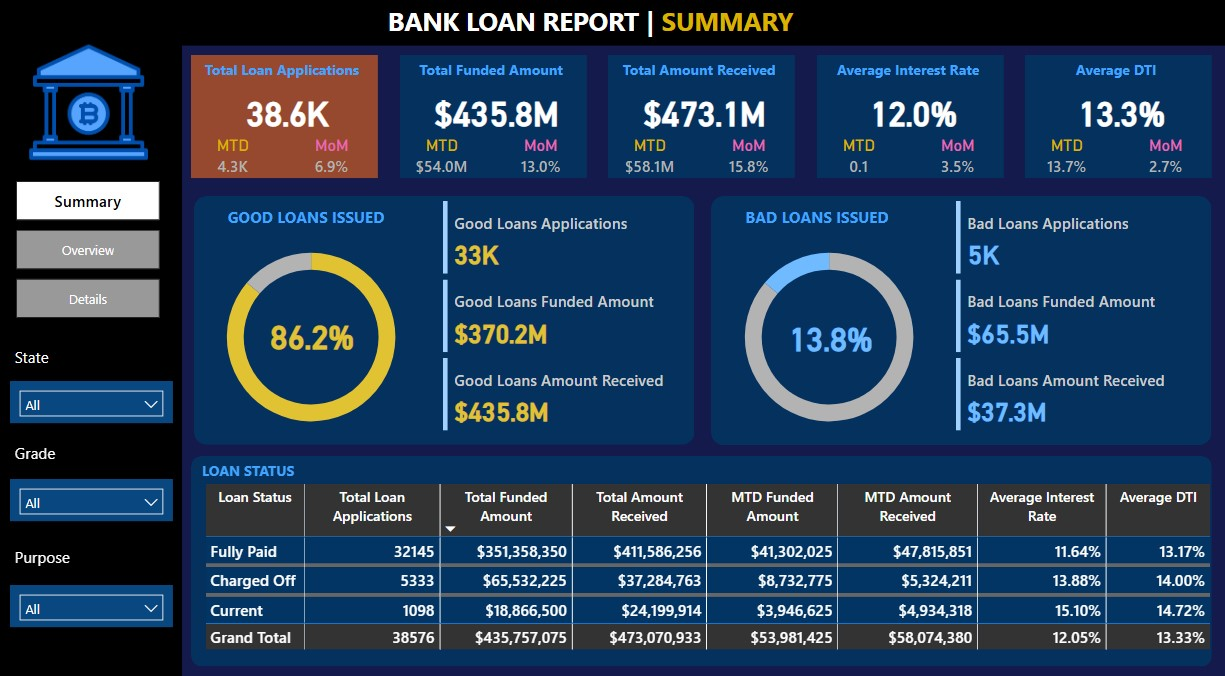

What the dashboard file says about the page in this screenshot:
{"tool":"powerbi","page":{"name":"Summary","canvas":[1280,720],"ordinal":0},"visuals":[{"type":"shape","box":[0,0,1280,55],"z":0},{"type":"shape","box":[200.5,64.3,195.3,128.5],"z":0,"group":"g1"},{"type":"shape","box":[418,64.3,195.3,128.5],"z":0,"group":"g2"},{"type":"shape","box":[635.5,64.3,195.3,128.5],"z":0,"group":"g3"},{"type":"shape","box":[853.1,64.3,195.3,128.5],"z":0,"group":"g4"},{"type":"shape","box":[1070.6,64.7,195.3,128.5],"z":0,"group":"g5"},{"type":"shape","box":[0,45,191.5,674.7],"z":1000},{"type":"textbox","box":[401,5.1,458.8,50.1],"z":2000},{"type":"group","id":"g1","title":"Group 1","box":[200.5,64.3,195.3,128.5],"z":3000},{"type":"group","id":"g2","title":"Group 1","box":[418,64.3,195.3,128.5],"z":4000},{"type":"card","fields":{"Values":["Bank_loan.Total Loan Applications"]},"box":[209.5,96.4,182.5,52.7],"z":4000,"group":"g1"},{"type":"card","fields":{"Values":["Bank_loan.Total Funded Amount"]},"box":[427,96.4,182.5,52.7],"z":4000,"group":"g2"},{"type":"card","fields":{"Values":["Bank_loan.Total Amount Received"]},"box":[644.5,96.4,182.5,52.7],"z":4000,"group":"g3"},{"type":"card","fields":{"Values":["Bank_loan.Average Interest Rate"]},"box":[862.1,96.4,182.5,52.7],"z":4000,"group":"g4"},{"type":"card","fields":{"Values":["Bank_loan.Average DTI"]},"box":[1079.6,96.8,182.5,52.7],"z":4000,"group":"g5"},{"type":"textbox","box":[200.5,64.3,190.2,32.1],"z":5000,"group":"g1"},{"type":"textbox","box":[418,64.3,190.2,32.1],"z":5000,"group":"g2"},{"type":"textbox","box":[635.5,64.3,190.2,32.1],"z":5000,"group":"g3"},{"type":"textbox","box":[853.1,64.3,190.2,32.1],"z":5000,"group":"g4"},{"type":"textbox","box":[1070.6,64.7,190.2,32.1],"z":5000,"group":"g5"},{"type":"shape","box":[203.4,212.2,522.3,259.5],"z":5000},{"type":"card","title":"MTD","fields":{"Values":["Bank_loan.MTD Loan Applications"]},"box":[209.5,149.1,68.1,43.7],"z":6000,"group":"g1"},{"type":"card","title":"MTD","fields":{"Values":["Bank_loan.MTD Funded Amount"]},"box":[427,149.1,68.1,43.7],"z":6000,"group":"g2"},{"type":"card","title":"MTD","fields":{"Values":["Bank_loan.MTD Amount Received"]},"box":[644.5,149.1,68.1,43.7],"z":6000,"group":"g3"},{"type":"card","title":"MTD","fields":{"Values":["Bank_loan.MTD Avg Int Rate"]},"box":[862.1,149.1,68.1,43.7],"z":6000,"group":"g4"},{"type":"card","title":"MTD","fields":{"Values":["Bank_loan.MTD Avg DTI"]},"box":[1079.6,149.5,68.1,43.7],"z":6000,"group":"g5"},{"type":"card","fields":{"Values":["Bank_loan.Good Loans %"]},"box":[271.2,330.3,110.5,52.7],"z":6000},{"type":"card","title":"MoM","fields":{"Values":["Bank_loan.MoM Loan Application"]},"box":[313.6,149.1,68.1,43.7],"z":7000,"group":"g1"},{"type":"card","title":"MoM","fields":{"Values":["Bank_loan.MoM Funded Amount"]},"box":[531.1,149.1,68.1,43.7],"z":7000,"group":"g2"},{"type":"card","title":"MoM","fields":{"Values":["Bank_loan.MoM Amount Received"]},"box":[748.6,149.1,68.1,43.7],"z":7000,"group":"g3"},{"type":"card","title":"MoM","fields":{"Values":["Bank_loan.MoM Avg Int Rate"]},"box":[966.2,149.1,68.1,43.7],"z":7000,"group":"g4"},{"type":"card","title":"MoM","fields":{"Values":["Bank_loan.MoM Avg DTI"]},"box":[1183.7,149.5,68.1,43.7],"z":7000,"group":"g5"},{"type":"textbox","box":[225.4,217.7,190.2,51.7],"z":7000},{"type":"group","id":"g3","title":"Group 1","box":[635.5,64.3,195.3,128.5],"z":8000},{"type":"group","id":"g4","title":"Group 1","box":[853.1,64.3,195.3,128.5],"z":9000},{"type":"group","id":"g5","title":"Group 1","box":[1070.6,64.7,195.1,128.3],"z":10000},{"type":"shape","box":[743.1,211.8,522.3,260],"z":11000},{"type":"donutChart","fields":{"Category":["Bank_loan.Good vs Bad Loans"],"Y":["Bank_loan.Total Loan Applications"]},"box":[200.1,244.1,250.7,229.8],"z":12000},{"type":"cardVisual","fields":{"Data":["Bank_loan.Good Loans Applications","Bank_loan.Good Loans Funded Amount","Bank_loan.Good Loans Amount Received"]},"box":[458.6,212.2,282.6,250.7],"z":13000},{"type":"donutChart","fields":{"Category":["Bank_loan.Good vs Bad Loans"],"Y":["Bank_loan.Total Loan Applications"]},"box":[741.2,244.1,250.7,229.8],"z":14000},{"type":"textbox","box":[758.8,217.7,190.2,51.7],"z":15000},{"type":"card","fields":{"Values":["Bank_loan.Bad Loans %"]},"box":[812.6,333.2,110,52.8],"z":16000},{"type":"cardVisual","fields":{"Data":["Bank_loan.Bad Loans Applications","Bank_loan.Bad Loans Funded Amount","Bank_loan.Bad Loans Amount Received"]},"box":[993,212.2,282.6,250.7],"z":17000},{"type":"shape","box":[200.5,483.2,1065.4,219.8],"z":18000},{"type":"tableEx","fields":{"Values":["Bank_loan.loan_status","Bank_loan.Total Loan Applications","Bank_loan.Total Funded Amount","Bank_loan.Total Amount Received","Bank_loan.MTD Funded Amount","Bank_loan.MTD Amount Received","Bank_loan.Average Interest Rate","Bank_loan.Average DTI"]},"box":[209.5,507.6,1066.7,195.3],"z":19000},{"type":"textbox","box":[164.9,482.7,190.2,31.9],"z":20000},{"type":"slicer","fields":{"Values":["Bank_loan.address_state"]},"box":[11.6,404.8,169.6,43.7],"z":21000},{"type":"slicer","fields":{"Values":["Bank_loan.grade"]},"box":[11.6,507.6,169.6,43.7],"z":22000},{"type":"slicer","fields":{"Values":["Bank_loan.purpose"]},"box":[11.6,618.2,169.6,43.7],"z":23000},{"type":"textbox","box":[11.6,463.9,152.9,38.6],"z":24000},{"type":"textbox","box":[11.6,363.7,84.8,37.3],"z":25000},{"type":"textbox","box":[11.6,573.2,152.9,41.1],"z":26000},{"type":"image","box":[11.6,45,164.5,137.5],"z":26001},{"type":"pageNavigator","box":[18,196.6,150.4,145.2],"z":26002}]}

Visuals, with their boxes in screenshot pixels (x1, y1, x2, y2), scaled from the page's 1280x720 canvas onto the 1225x676 screenshot:
shape: [0,0,1224,52]
shape: [192,60,379,181]
shape: [400,60,587,181]
shape: [608,60,795,181]
shape: [816,60,1003,181]
shape: [1025,61,1212,181]
shape: [0,42,183,675]
textbox: [384,5,823,52]
"Group 1" group: [192,60,379,181]
"Group 1" group: [400,60,587,181]
card - Bank_loan.Total Loan Applications: [200,91,375,140]
card - Bank_loan.Total Funded Amount: [409,91,583,140]
card - Bank_loan.Total Amount Received: [617,91,791,140]
card - Bank_loan.Average Interest Rate: [825,91,1000,140]
card - Bank_loan.Average DTI: [1033,91,1208,140]
textbox: [192,60,374,91]
textbox: [400,60,582,91]
textbox: [608,60,790,91]
textbox: [816,60,998,91]
textbox: [1025,61,1207,91]
shape: [195,199,695,443]
"MTD" card: [200,140,266,181]
"MTD" card: [409,140,474,181]
"MTD" card: [617,140,682,181]
"MTD" card: [825,140,890,181]
"MTD" card: [1033,140,1098,181]
card - Bank_loan.Good Loans %: [260,310,365,360]
"MoM" card: [300,140,365,181]
"MoM" card: [508,140,573,181]
"MoM" card: [716,140,782,181]
"MoM" card: [925,140,990,181]
"MoM" card: [1133,140,1198,181]
textbox: [216,204,398,253]
"Group 1" group: [608,60,795,181]
"Group 1" group: [816,60,1003,181]
"Group 1" group: [1025,61,1211,181]
shape: [711,199,1211,443]
donutChart - Bank_loan.Good vs Bad Loans x Bank_loan.Total Loan Applications: [192,229,431,445]
cardVisual - Bank_loan.Good Loans Applications x Bank_loan.Good Loans Funded Amount: [439,199,709,435]
donutChart - Bank_loan.Good vs Bad Loans x Bank_loan.Total Loan Applications: [709,229,949,445]
textbox: [726,204,908,253]
card - Bank_loan.Bad Loans %: [778,313,883,362]
cardVisual - Bank_loan.Bad Loans Applications x Bank_loan.Bad Loans Funded Amount: [950,199,1221,435]
shape: [192,454,1212,660]
tableEx - Bank_loan.loan_status x Bank_loan.Total Loan Applications: [200,477,1221,660]
textbox: [158,453,340,483]
slicer - Bank_loan.address_state: [11,380,173,421]
slicer - Bank_loan.grade: [11,477,173,518]
slicer - Bank_loan.purpose: [11,580,173,621]
textbox: [11,436,157,472]
textbox: [11,341,92,376]
textbox: [11,538,157,577]
image: [11,42,169,171]
pageNavigator: [17,185,161,321]
